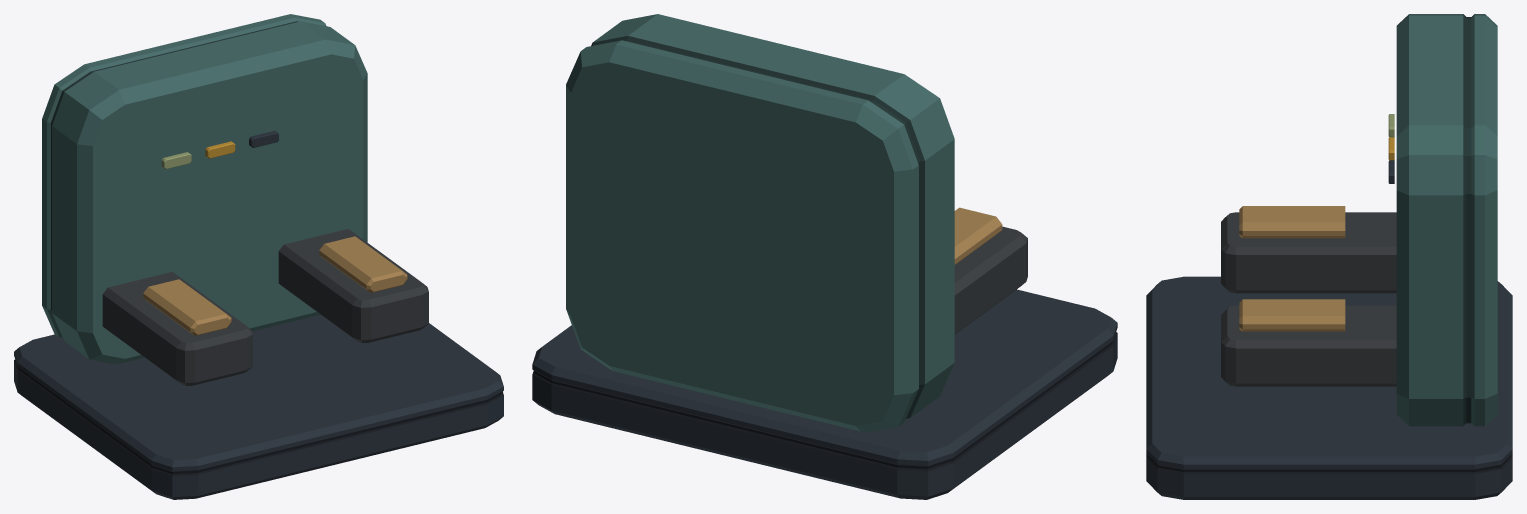
Rendered from T-08_charging_dock.glb.
The picture shows the model from 3 angles, left to right: view 1: azimuth 30°, elevation 25°; view 2: azimuth 150°, elevation 25°; view 3: azimuth 270°, elevation 25°; orthographic projection. The views are drawn at different scales.
Visible parts, largest first — view 1: T-08_charging_dock; view 2: T-08_charging_dock; view 3: T-08_charging_dock.
Boxes of the visible parts, bbox=[...] form: T-08_charging_dock: bbox=[14, 14, 503, 499]; T-08_charging_dock: bbox=[532, 14, 1117, 499]; T-08_charging_dock: bbox=[1146, 14, 1512, 499].
Bounding box in the file's own units: 0.67 × 0.573 × 0.56.
